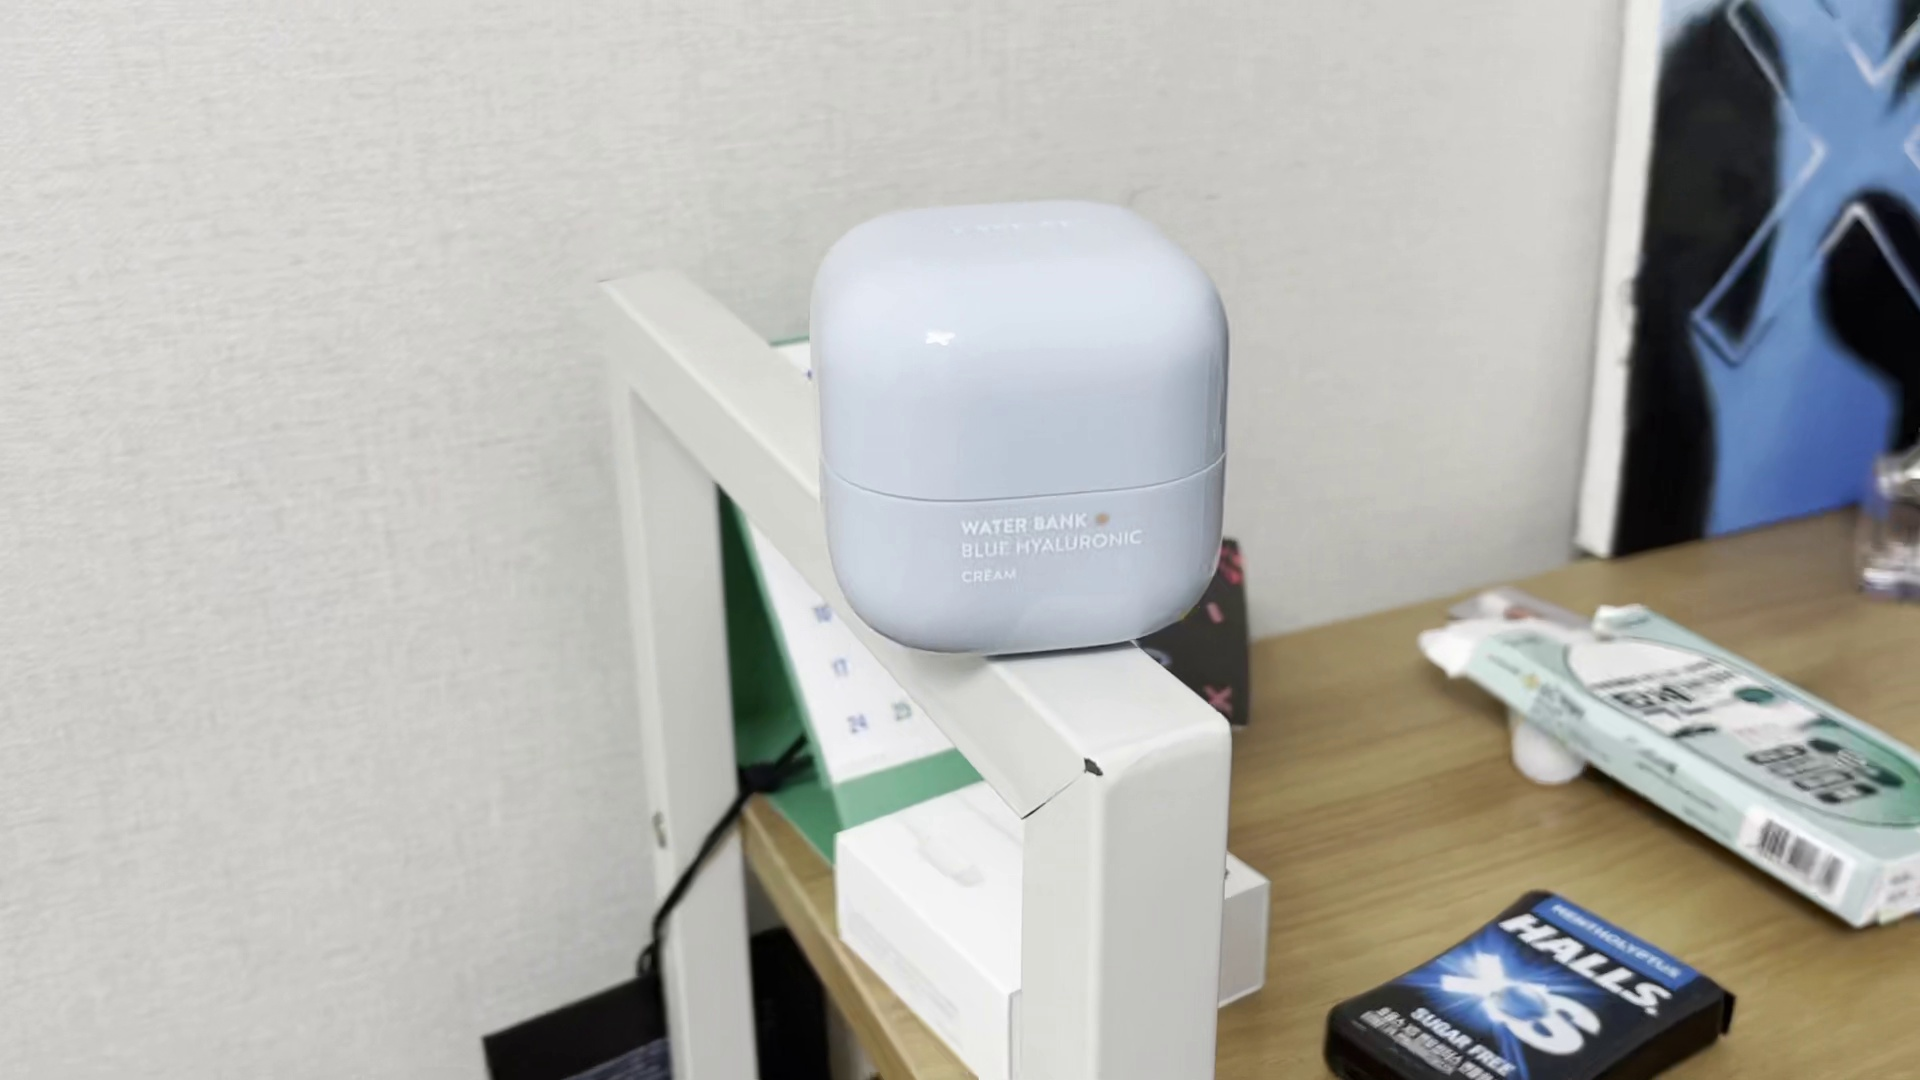cream: (816, 198, 1232, 647)
